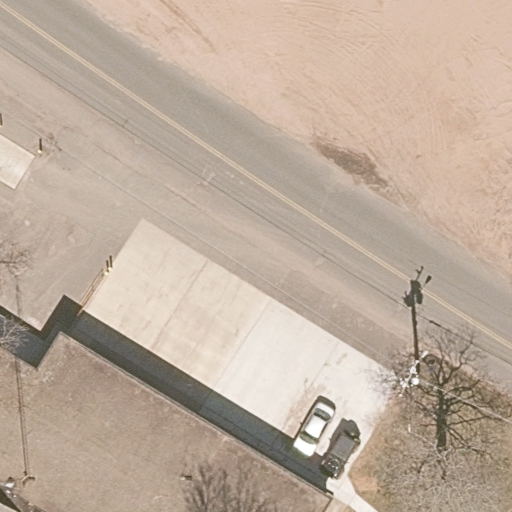DT: (398, 350, 429, 399)
